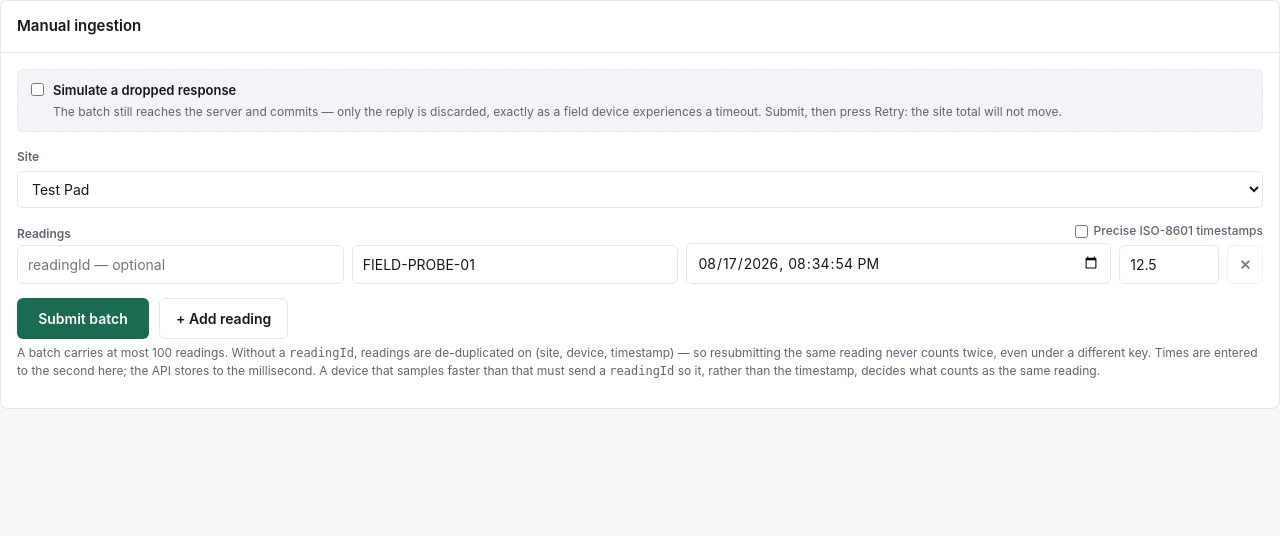
Test: IngestForm › rejects an invalid batch before it reaches the API
Step 1. Replace the text in the field named "ch4 kg" with "not-a-number" → (1169, 264), box [1119,245,1219,284]
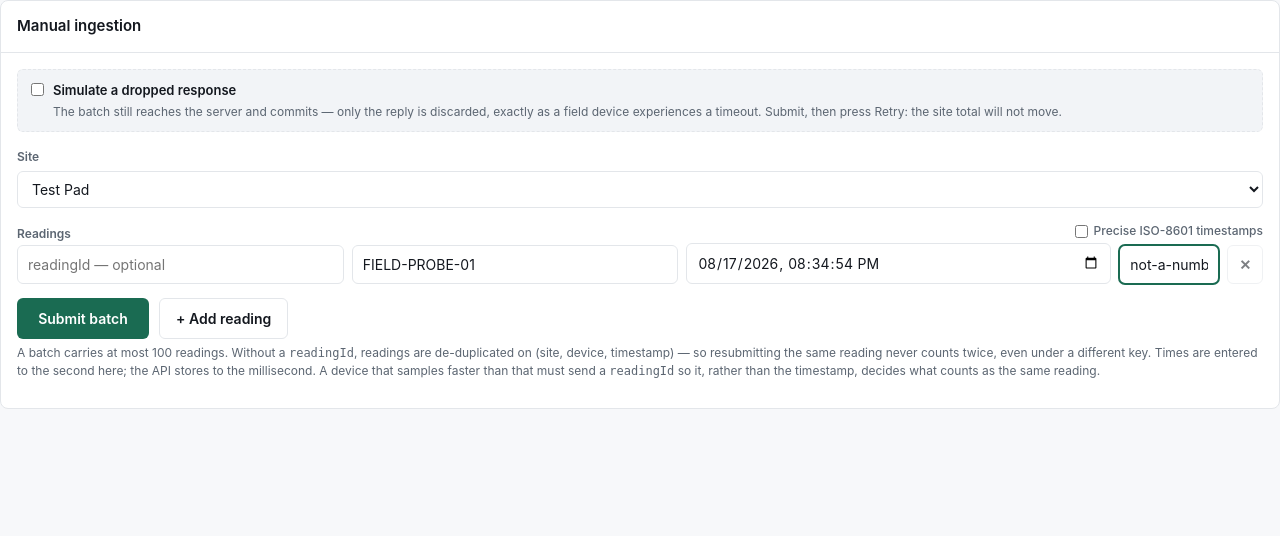
Step 2. Click the button "Submit batch" → (83, 318), box [17,298,149,339]
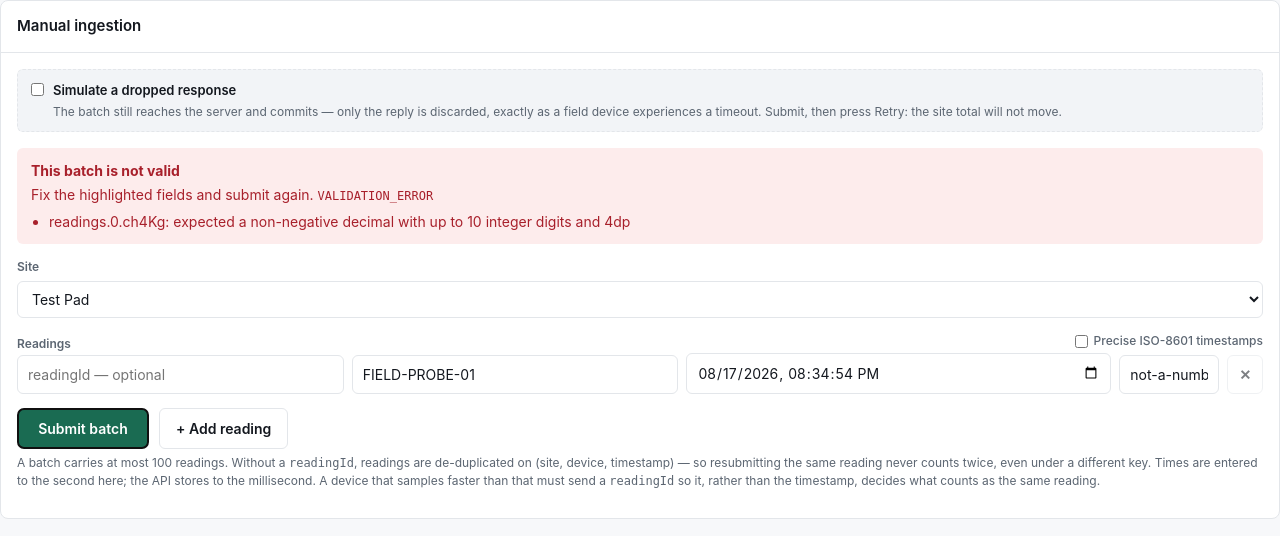
Result: the text "This batch is not valid" is shown at [31,162,180,179]
